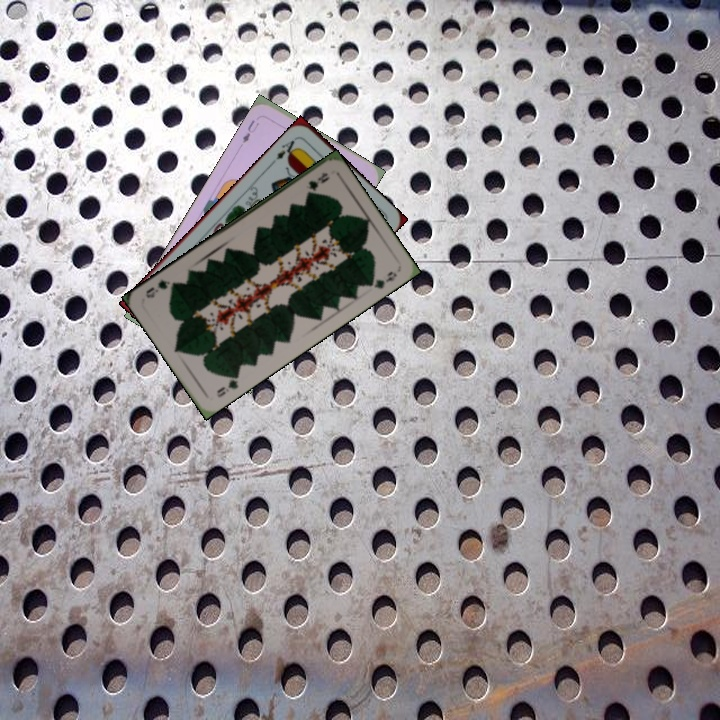EA: (268, 133, 301, 166)
EU: (238, 116, 261, 146)
G9: (212, 369, 242, 400), (304, 168, 333, 193)
